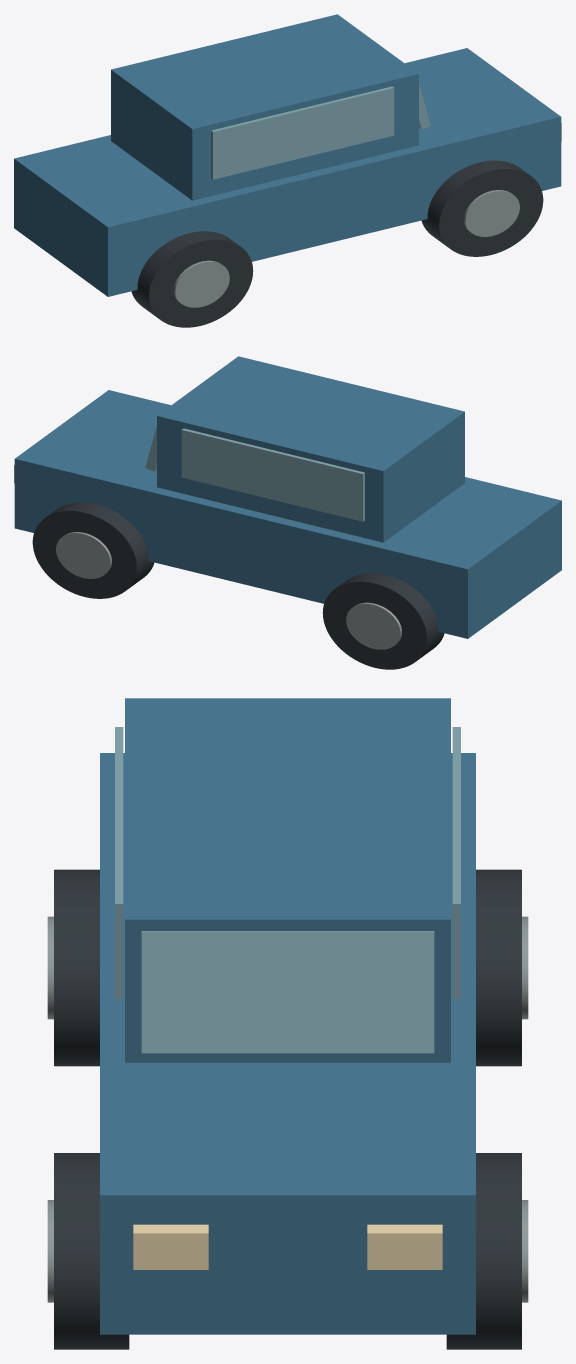
3 views of the same model, one above another, from view 1: azimuth 30°, elevation 25°; view 2: azimuth 150°, elevation 25°; view 3: azimuth 270°, elevation 25° (orthographic). The views are drawn at different scales.
Visible parts, largest first — view 1: 车身, 驾驶舱, 侧窗, 轮胎, 轮胎.001, 轮毂.001, 轮毂; view 2: 车身, 驾驶舱, 侧窗.001, 轮胎.002, 轮胎.003, 轮毂.003, 轮毂.002; view 3: 车身, 驾驶舱, 挡风玻璃, 轮胎.001, 轮胎.003, 轮胎, 轮胎.002, 车灯, 车灯.001, 侧窗, 侧窗.001.
Part boxes in pixels (x1,y1,x2,y2): 车身: (14,48,561,296); 驾驶舱: (111,14,418,200); 侧窗: (211,86,394,179); 轮胎: (131,231,253,327); 轮胎.001: (421,160,543,256); 轮毂.001: (464,190,519,236); 轮毂: (174,260,229,307); 车身: (14,390,561,638); 驾驶舱: (157,356,464,542); 侧窗.001: (181,428,364,521); 轮胎.002: (322,573,444,669); 轮胎.003: (32,502,154,598); 轮毂.003: (56,532,111,578); 轮毂.002: (346,602,401,649); 车身: (100,753,475,1334); 驾驶舱: (125,698,450,1062); 挡风玻璃: (141,931,434,1053); 轮胎.001: (54,1153,129,1349); 轮胎.003: (446,1153,521,1349); 轮胎: (54,869,99,1066); 轮胎.002: (476,869,521,1066); 车灯: (133,1224,208,1269); 车灯.001: (367,1224,442,1269); 侧窗: (115,727,123,999); 侧窗.001: (452,727,460,999).
Size of the model in its own units: 4 by 1.5 by 1.8.
